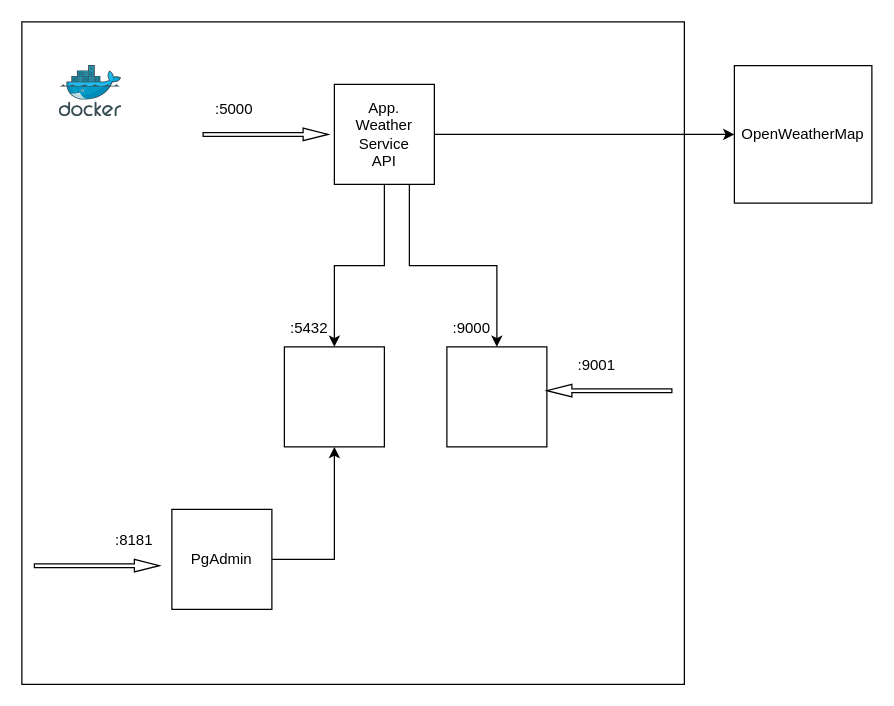
The diagram is 894 pixels wide and 706 high, and some of its shapes have lost their labels. The shapes that lost their labels are listed below. From the top down, each one's centre as x and y in pixels, then its label:
the point at 333,396: DB Postgres
the point at 496,396: S3 Minio
